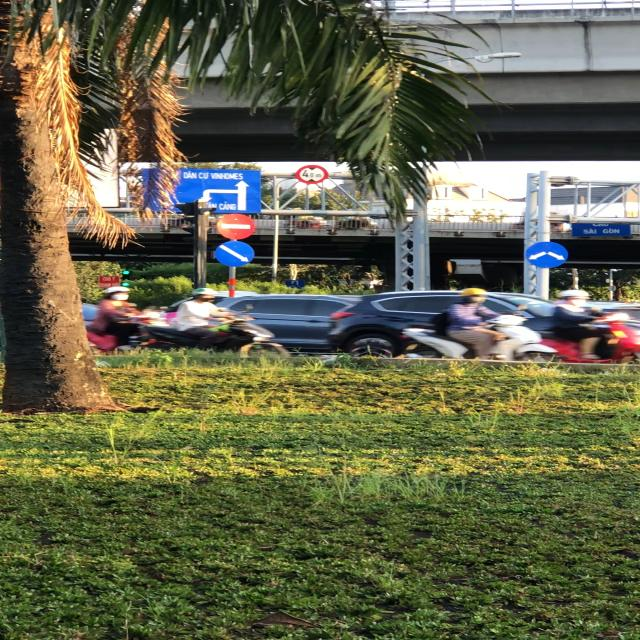Bien bao cam di nguoc chieu: (211, 210, 260, 240)
Bien bao han che chieu cao: (294, 163, 332, 185)
Bien bao huong phai di vong chuong ngai vat: (522, 240, 576, 270), (209, 240, 262, 270)
